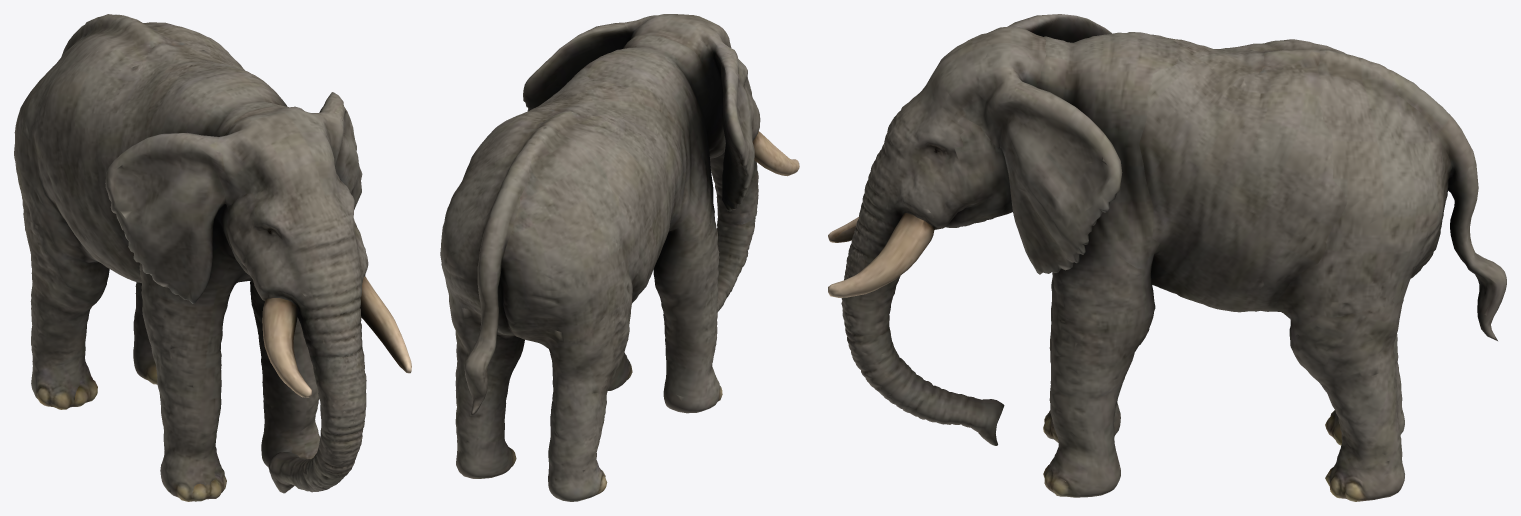
Rendered from MZ4250 - Elephant.glb.
3 views of the same model, side by side, from view 1: azimuth 30°, elevation 25°; view 2: azimuth 150°, elevation 25°; view 3: azimuth 270°, elevation 25° (orthographic). The views are drawn at different scales.
Parts seen in each view (by area): view 1: Elephant t.001; view 2: Elephant t.001; view 3: Elephant t.001.
Boxes of the visible parts, x1,y1,x2,y2 form: Elephant t.001: [14, 14, 411, 501]; Elephant t.001: [440, 14, 799, 501]; Elephant t.001: [828, 14, 1506, 501].
Bounding box in the file's own units: 0.9167 × 1.41 × 2.03.
1 material, 1 textured.
